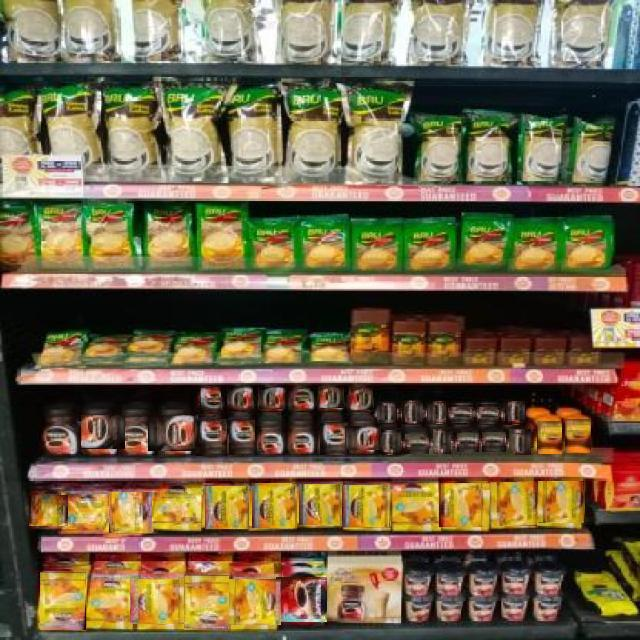Coffee: (88, 570, 135, 629), (39, 571, 86, 630), (183, 574, 229, 630), (130, 579, 187, 624), (227, 579, 281, 625), (392, 479, 439, 530), (276, 577, 327, 622), (440, 483, 490, 527), (155, 483, 199, 532), (489, 482, 537, 526), (252, 483, 297, 528), (342, 485, 390, 527), (205, 485, 249, 529), (537, 482, 584, 523), (299, 483, 343, 525), (149, 414, 198, 451), (108, 492, 152, 533), (45, 408, 81, 458), (68, 490, 106, 533), (122, 408, 156, 455), (77, 416, 125, 449), (195, 418, 227, 456), (29, 496, 68, 526), (285, 420, 316, 454), (319, 421, 348, 455), (228, 419, 255, 455), (564, 419, 591, 453), (258, 420, 285, 454), (536, 420, 562, 454), (346, 425, 381, 450), (258, 386, 286, 409), (228, 386, 253, 411), (291, 385, 314, 410), (348, 387, 373, 410), (318, 386, 344, 408), (509, 429, 531, 455), (200, 386, 221, 412), (481, 431, 506, 452), (405, 433, 429, 454), (402, 401, 423, 424), (504, 402, 525, 425), (428, 400, 448, 424), (381, 430, 401, 454), (449, 404, 474, 423), (432, 429, 451, 454), (456, 432, 479, 452), (477, 403, 498, 424), (378, 402, 397, 423)
